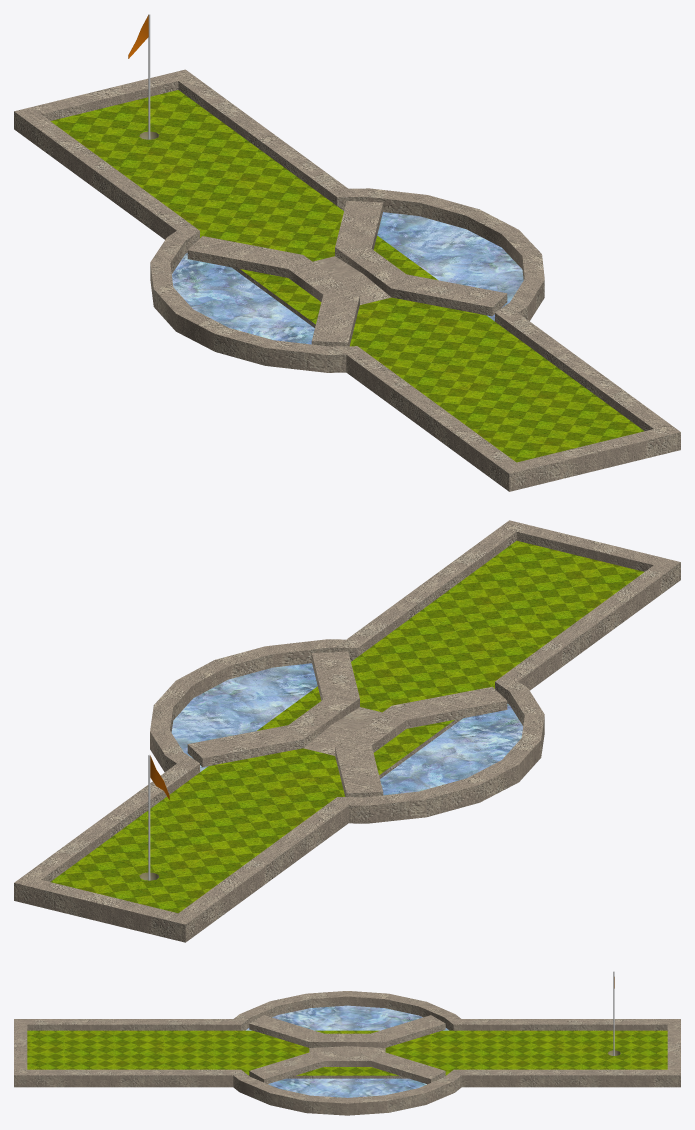
Rendered from course4_hole16.fbx.
3 renders of one model, top to bottom at view 1: azimuth 30°, elevation 25°; view 2: azimuth 150°, elevation 25°; view 3: azimuth 270°, elevation 25°, orthographic. The views are drawn at different scales.
Visible parts, largest first — view 1: course4_hole16_ground, course4_hole16_walls, course4_hole16_rotating_walls, course4_hole16_water; view 2: course4_hole16_ground, course4_hole16_walls, course4_hole16_rotating_walls, course4_hole16_water, course4_hole16_flag; view 3: course4_hole16_walls, course4_hole16_ground, course4_hole16_rotating_walls, course4_hole16_water.
Part boxes in pixels (x1=…): course4_hole16_ground: x1=50, y1=90, x2=644, y2=462; course4_hole16_walls: x1=14, y1=69, x2=680, y2=491; course4_hole16_rotating_walls: x1=187, y1=200, x2=507, y2=346; course4_hole16_water: x1=171, y1=212, x2=523, y2=344; course4_hole16_ground: x1=51, y1=540, x2=643, y2=913; course4_hole16_walls: x1=14, y1=520, x2=680, y2=942; course4_hole16_rotating_walls: x1=187, y1=651, x2=507, y2=797; course4_hole16_water: x1=171, y1=663, x2=523, y2=795; course4_hole16_flag: x1=148, y1=754, x2=169, y2=880; course4_hole16_walls: x1=14, y1=991, x2=680, y2=1115; course4_hole16_ground: x1=27, y1=1030, x2=667, y2=1075; course4_hole16_rotating_walls: x1=249, y1=1015, x2=445, y2=1084; course4_hole16_water: x1=246, y1=1005, x2=448, y2=1097.
Bounding box in the file's own units: 200 × 75.04 × 500.
